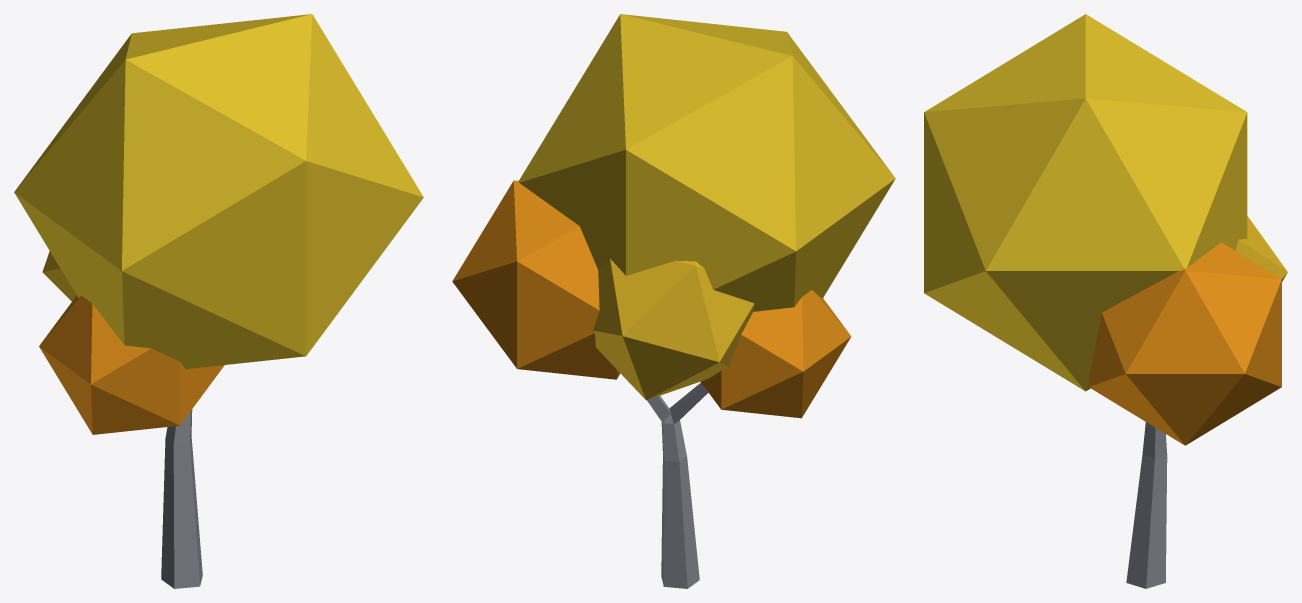
The model's file is tree02.dae.
3 views of the same model, side by side, from view 1: azimuth 30°, elevation 25°; view 2: azimuth 150°, elevation 25°; view 3: azimuth 270°, elevation 25° (orthographic). The views are drawn at different scales.
Parts seen in each view (by area): view 1: leaves (×3), bark; view 2: leaves (×4), bark; view 3: leaves (×3), bark.
Part boxes in pixels (x1,y1,x2,y2): leaves (×3): (14, 14, 423, 434); bark: (161, 409, 202, 588); leaves (×4): (452, 14, 895, 418); bark: (647, 383, 708, 588); leaves (×3): (924, 14, 1287, 445); bark: (1126, 422, 1167, 588).
Bounding box in the file's own units: 686 × 1091 × 685.
Materials: 1 (1 with a texture image).
